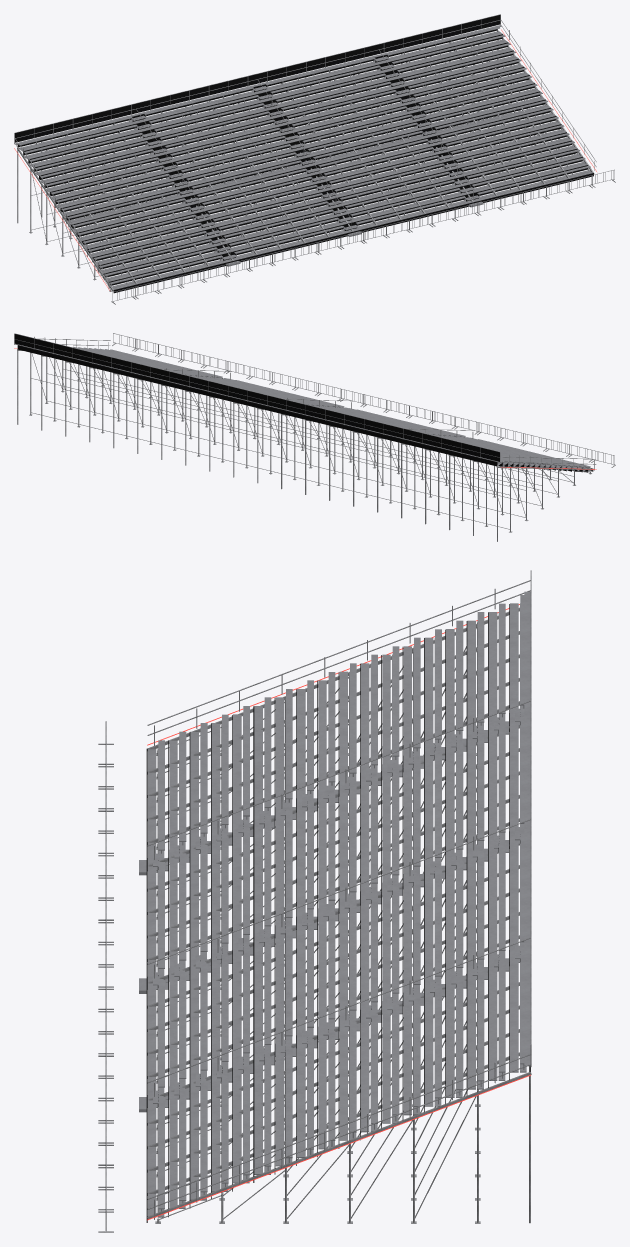
The model's file is grandstand.glb.
3 renders of one model, top to bottom at view 1: azimuth 30°, elevation 25°; view 2: azimuth 150°, elevation 25°; view 3: azimuth 270°, elevation 25°, orthographic. The views are drawn at different scales.
Visible parts, largest first — view 1: Grandstand_Mesh; view 2: Grandstand_Mesh; view 3: Grandstand_Mesh.
Boxes of the visible parts, x1=… form: Grandstand_Mesh: x1=14, y1=14, x2=615, y2=304; Grandstand_Mesh: x1=14, y1=333, x2=615, y2=541; Grandstand_Mesh: x1=98, y1=570, x2=531, y2=1232.
Bounding box in the file's own units: 51.68 × 8.93 × 19.32.
Materials: 4 (3 with a texture image).
